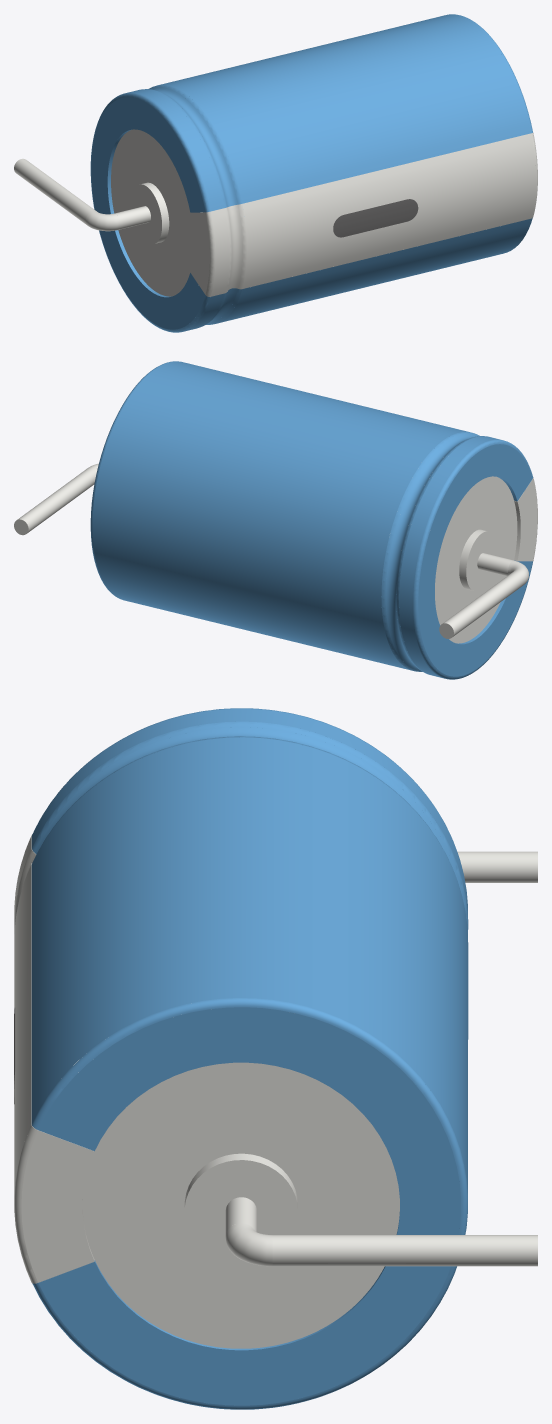
File: CP_Axial_L20.0mm_D13.0mm_P26.00mm_Horizontal.glb
The picture shows the model from 3 angles, top to bottom: view 1: azimuth 30°, elevation 25°; view 2: azimuth 150°, elevation 25°; view 3: azimuth 270°, elevation 25°; orthographic projection. The views are drawn at different scales.
Parts seen in each view (by area): view 1: Shape_IndexedFaceSet.009, Shape_IndexedFaceSet.039, Shape_IndexedFaceSet.006, Shape_IndexedFaceSet.054, Shape_IndexedFaceSet, Shape_IndexedFaceSet.005, Shape_IndexedFaceSet.018, Shape_IndexedFaceSet.003, Shape_IndexedFaceSet.041, Shape_IndexedFaceSet.025, Shape_IndexedFaceSet.031, Shape_IndexedFaceSet.052 (+9 smaller); view 2: Shape_IndexedFaceSet.009, Shape_IndexedFaceSet.006, Shape_IndexedFaceSet.054, Shape_IndexedFaceSet, Shape_IndexedFaceSet.005, Shape_IndexedFaceSet.003, Shape_IndexedFaceSet.041, Shape_IndexedFaceSet.045, Shape_IndexedFaceSet.007, Shape_IndexedFaceSet.031, Shape_IndexedFaceSet.052, Shape_IndexedFaceSet.002 (+3 smaller); view 3: Shape_IndexedFaceSet.009, Shape_IndexedFaceSet.049, Shape_IndexedFaceSet.012, Shape_IndexedFaceSet.045, Shape_IndexedFaceSet.011, Shape_IndexedFaceSet.036, Shape_IndexedFaceSet.047, Shape_IndexedFaceSet, Shape_IndexedFaceSet.039, Shape_IndexedFaceSet.005, Shape_IndexedFaceSet.002, Shape_IndexedFaceSet.041 (+4 smaller).
Boxes of the visible parts, bbox=[...] form: Shape_IndexedFaceSet.009: bbox=[158, 14, 530, 323]; Shape_IndexedFaceSet.039: bbox=[242, 133, 535, 288]; Shape_IndexedFaceSet.006: bbox=[91, 97, 205, 329]; Shape_IndexedFaceSet.054: bbox=[111, 129, 193, 296]; Shape_IndexedFaceSet: bbox=[127, 89, 224, 331]; Shape_IndexedFaceSet.005: bbox=[150, 87, 237, 323]; Shape_IndexedFaceSet.018: bbox=[333, 199, 418, 237]; Shape_IndexedFaceSet.003: bbox=[90, 92, 210, 332]; Shape_IndexedFaceSet.041: bbox=[14, 158, 96, 225]; Shape_IndexedFaceSet.025: bbox=[210, 208, 229, 296]; Shape_IndexedFaceSet.031: bbox=[190, 212, 209, 294]; Shape_IndexedFaceSet.052: bbox=[131, 184, 161, 244]; Shape_IndexedFaceSet.009: bbox=[92, 361, 469, 670]; Shape_IndexedFaceSet.006: bbox=[418, 444, 532, 676]; Shape_IndexedFaceSet.054: bbox=[435, 476, 517, 643]; Shape_IndexedFaceSet: bbox=[399, 436, 500, 677]; Shape_IndexedFaceSet.005: bbox=[385, 434, 478, 670]; Shape_IndexedFaceSet.003: bbox=[413, 439, 533, 679]; Shape_IndexedFaceSet.041: bbox=[443, 570, 525, 636]; Shape_IndexedFaceSet.045: bbox=[17, 467, 97, 533]; Shape_IndexedFaceSet.007: bbox=[381, 432, 479, 671]; Shape_IndexedFaceSet.031: bbox=[517, 479, 537, 561]; Shape_IndexedFaceSet.052: bbox=[466, 531, 496, 591]; Shape_IndexedFaceSet.002: bbox=[396, 436, 484, 673]; Shape_IndexedFaceSet.009: bbox=[31, 737, 468, 1192]; Shape_IndexedFaceSet.049: bbox=[82, 1062, 399, 1348]; Shape_IndexedFaceSet.012: bbox=[38, 1007, 460, 1405]; Shape_IndexedFaceSet.045: bbox=[272, 1235, 537, 1266]; Shape_IndexedFaceSet.011: bbox=[32, 998, 467, 1409]; Shape_IndexedFaceSet.036: bbox=[21, 1130, 94, 1282]; Shape_IndexedFaceSet.047: bbox=[184, 1160, 297, 1262]; Shape_IndexedFaceSet: bbox=[31, 709, 468, 925]; Shape_IndexedFaceSet.039: bbox=[14, 865, 31, 1193]; Shape_IndexedFaceSet.005: bbox=[34, 727, 461, 892]; Shape_IndexedFaceSet.002: bbox=[32, 721, 468, 932]; Shape_IndexedFaceSet.041: bbox=[457, 851, 537, 882].
Bounding box in the file's own units: 10.59 × 5.12 × 5.91.
